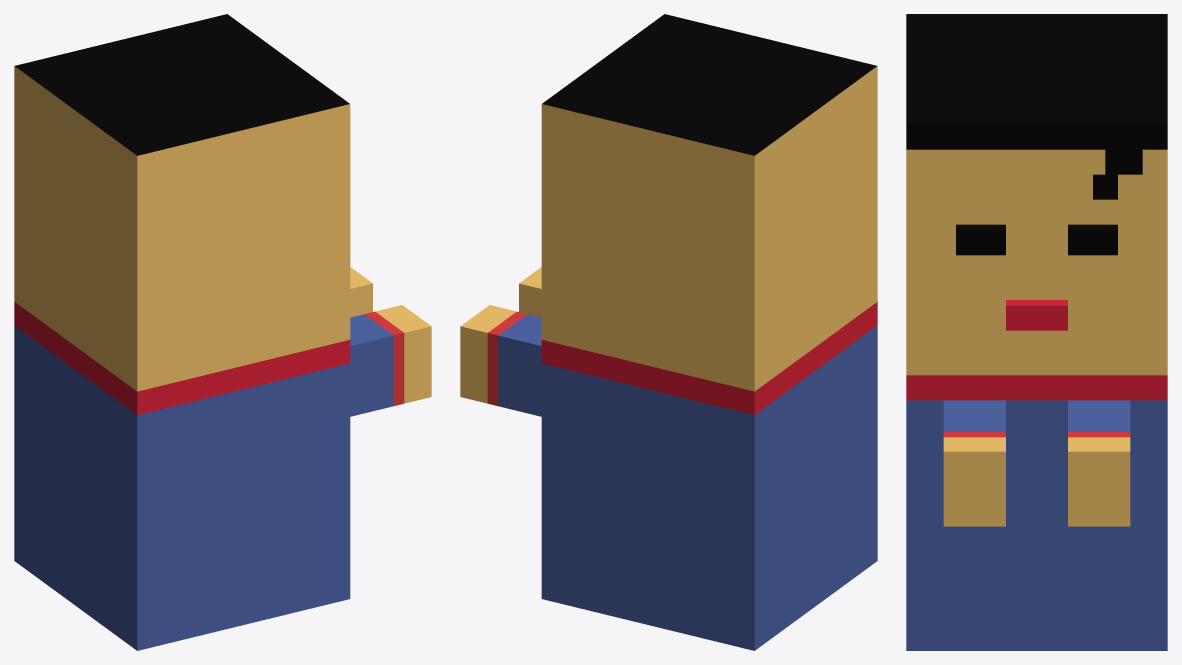
Rendered from human.fbx.
3 renders of one model, left to right at view 1: azimuth 30°, elevation 25°; view 2: azimuth 150°, elevation 25°; view 3: azimuth 270°, elevation 25°, orthographic. The views are drawn at different scales.
Parts seen in each view (by area): view 1: 立方体; view 2: 立方体; view 3: 立方体.
Part boxes in pixels (left/top/right/bottom): 立方体: left=14, top=14, right=431, bottom=650; 立方体: left=460, top=14, right=877, bottom=650; 立方体: left=906, top=14, right=1167, bottom=650.
Bounding box in the file's own units: 115 × 174 × 78.21.
